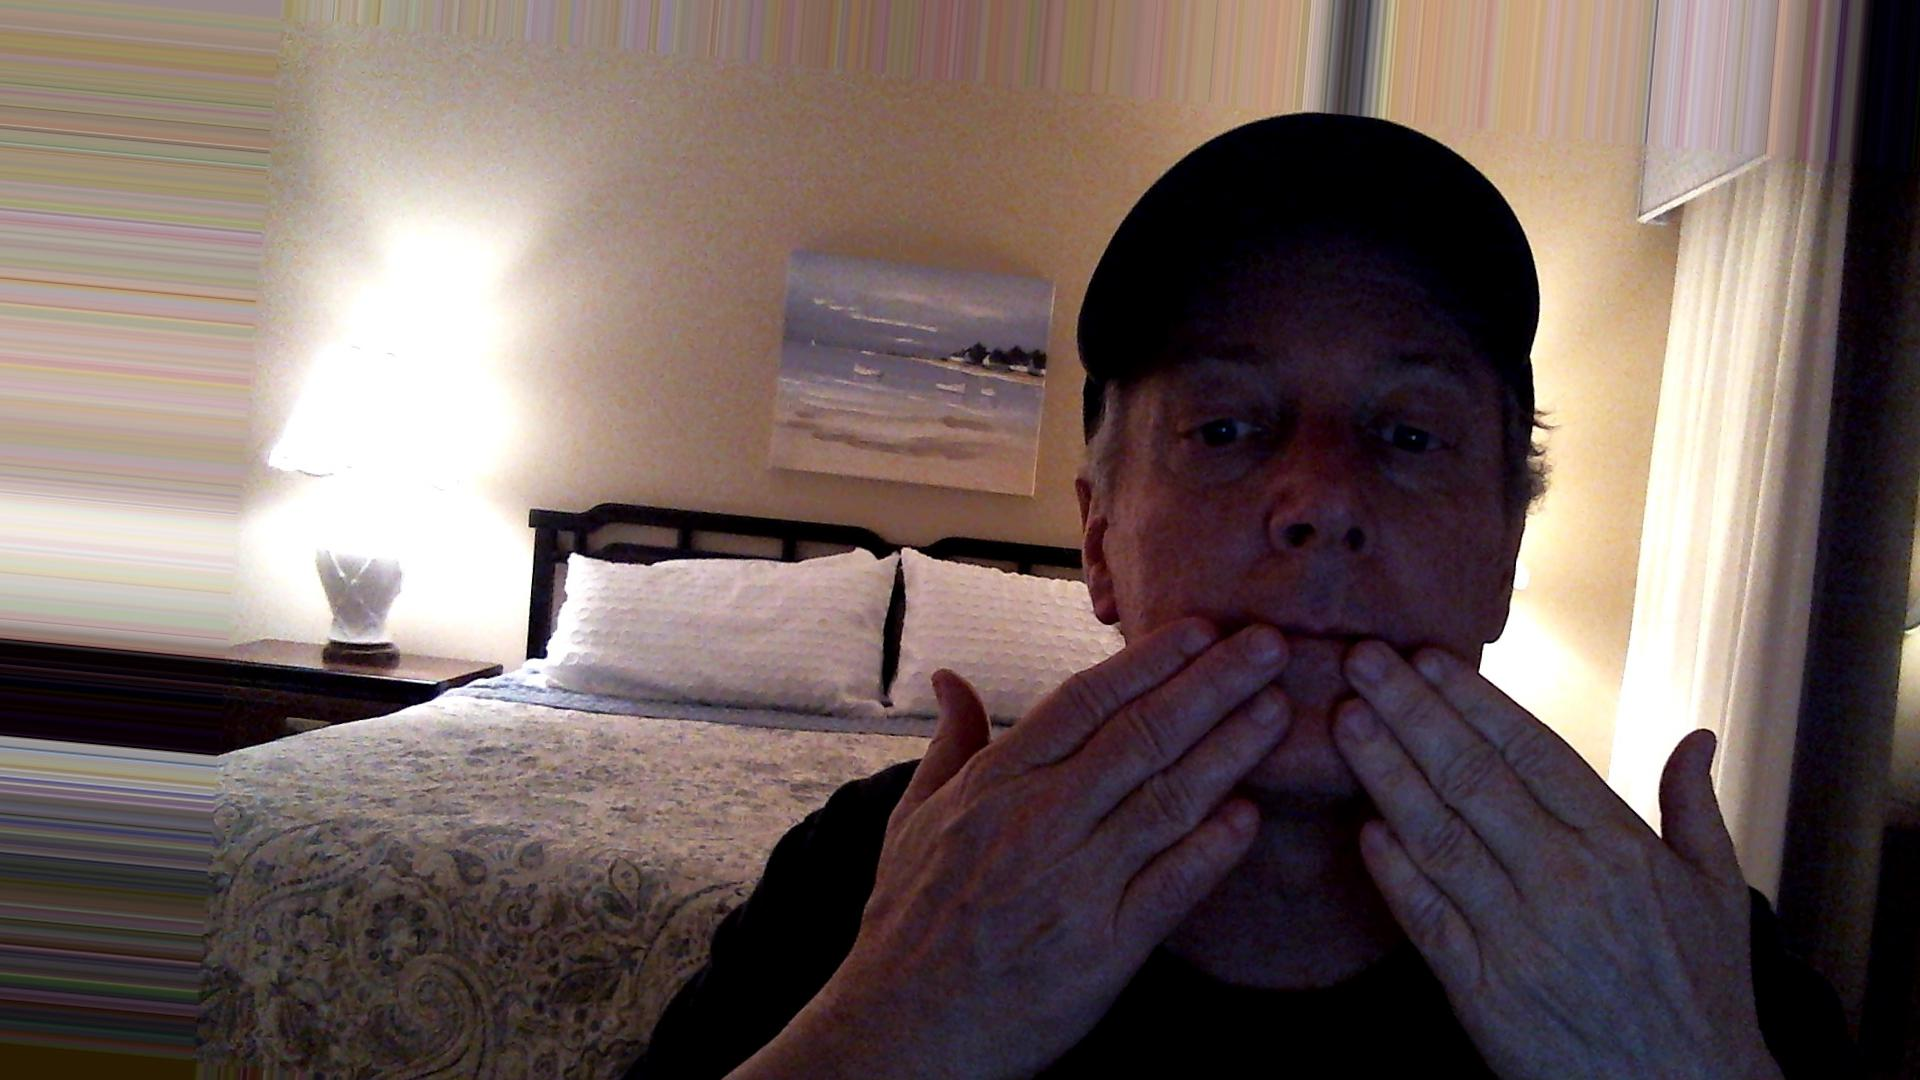Thank You: (843, 604, 1775, 1044)
